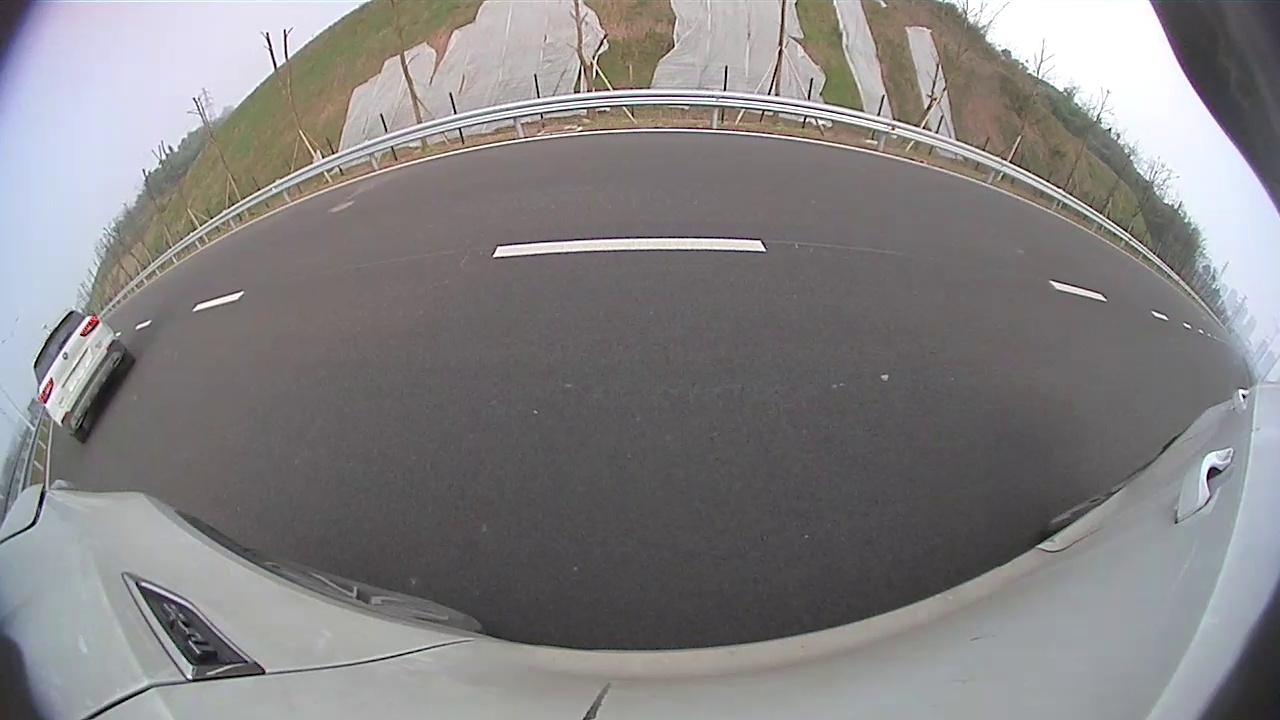car: (33, 312, 136, 446)
